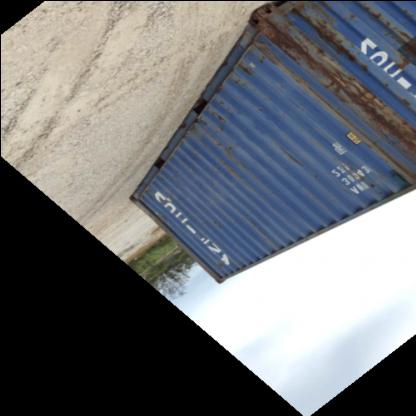Damage: (279, 7, 413, 94), (354, 97, 414, 170), (183, 96, 240, 144), (250, 9, 282, 41), (225, 64, 258, 90), (250, 41, 278, 66), (277, 148, 303, 172), (348, 172, 372, 196)
